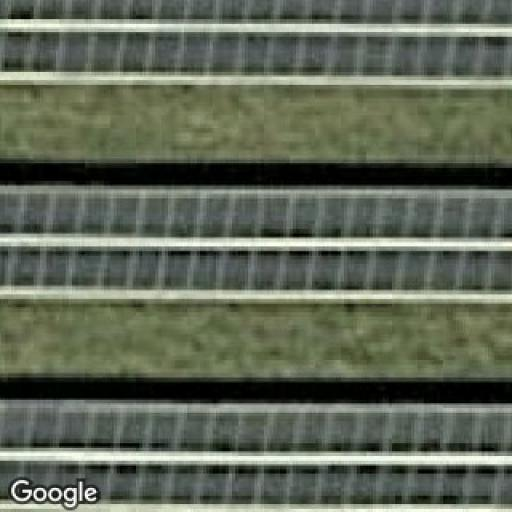solar-panel: (0, 395, 512, 512), (0, 187, 512, 293), (0, 0, 512, 83)
